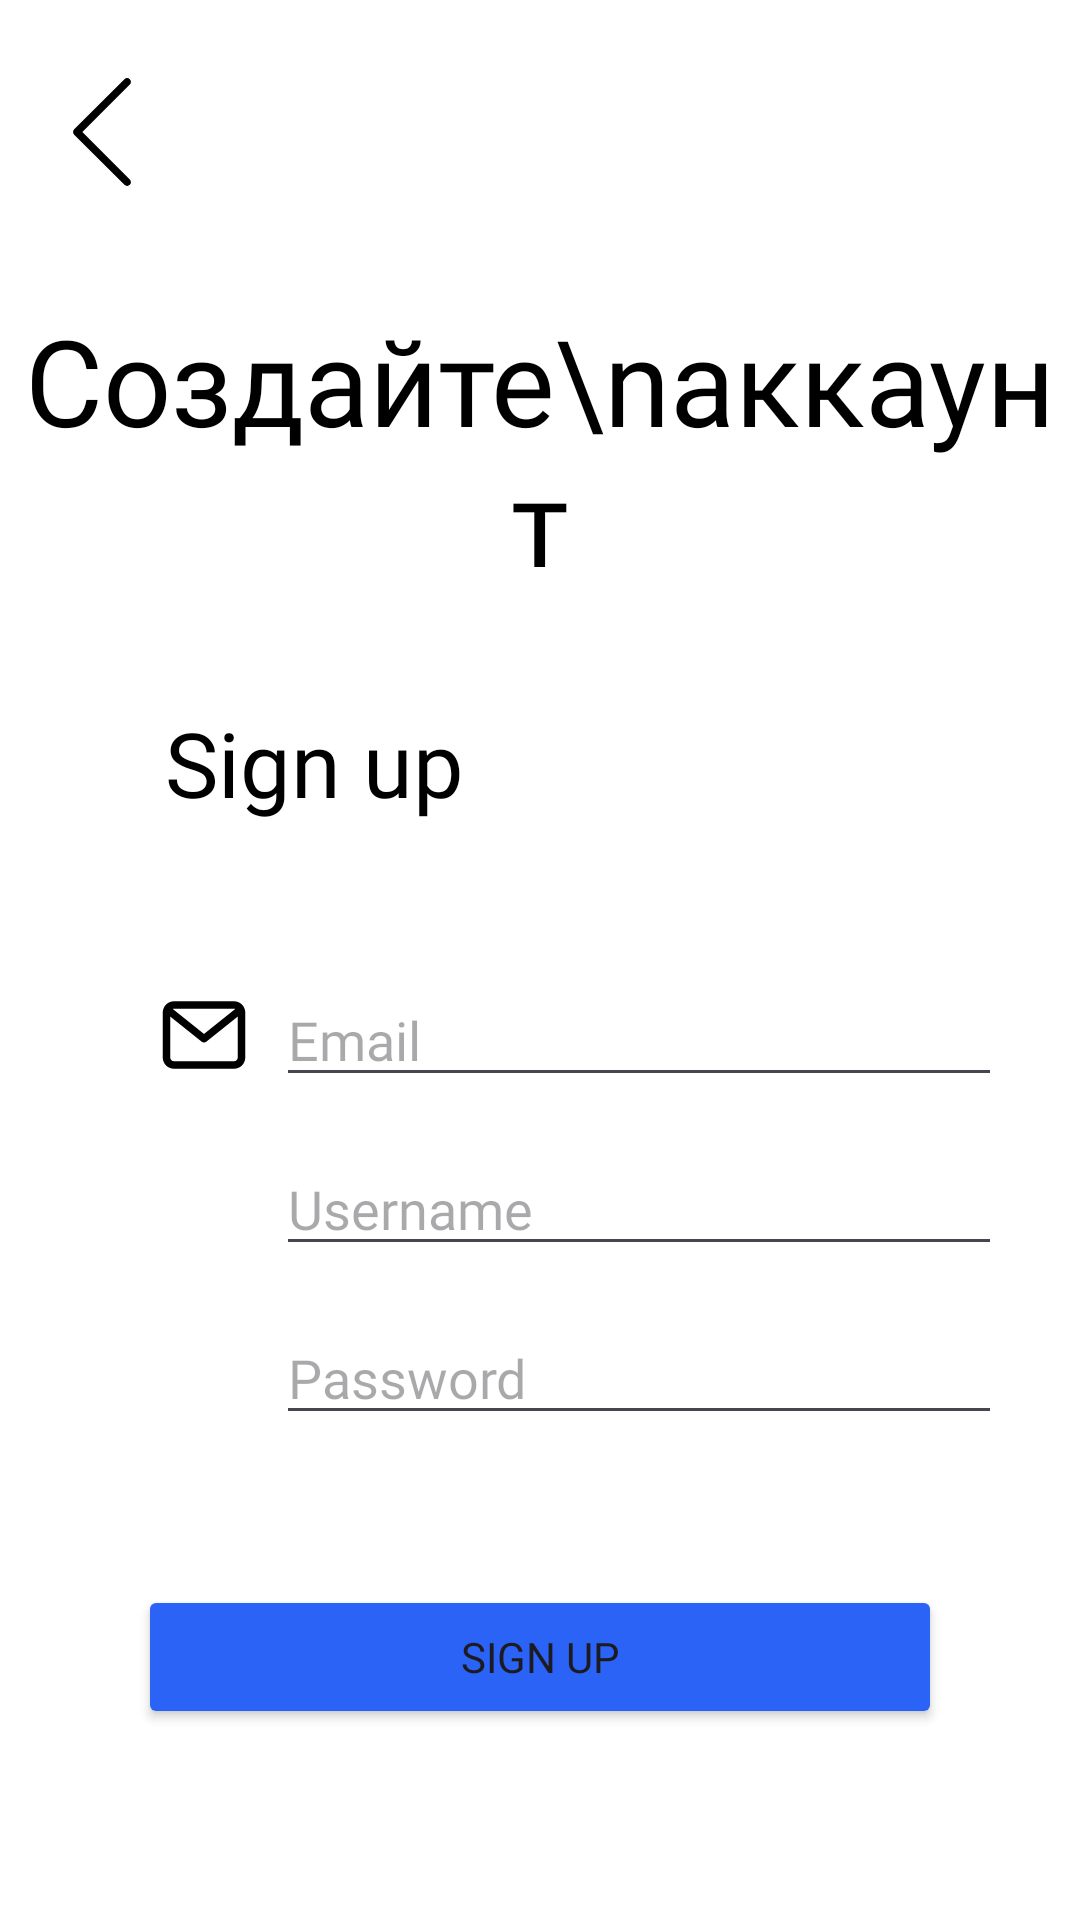

Icons on this 1080px x 1920px Android screen, each with the point to tap as point (x, y):
arrow back: point (102, 132)
